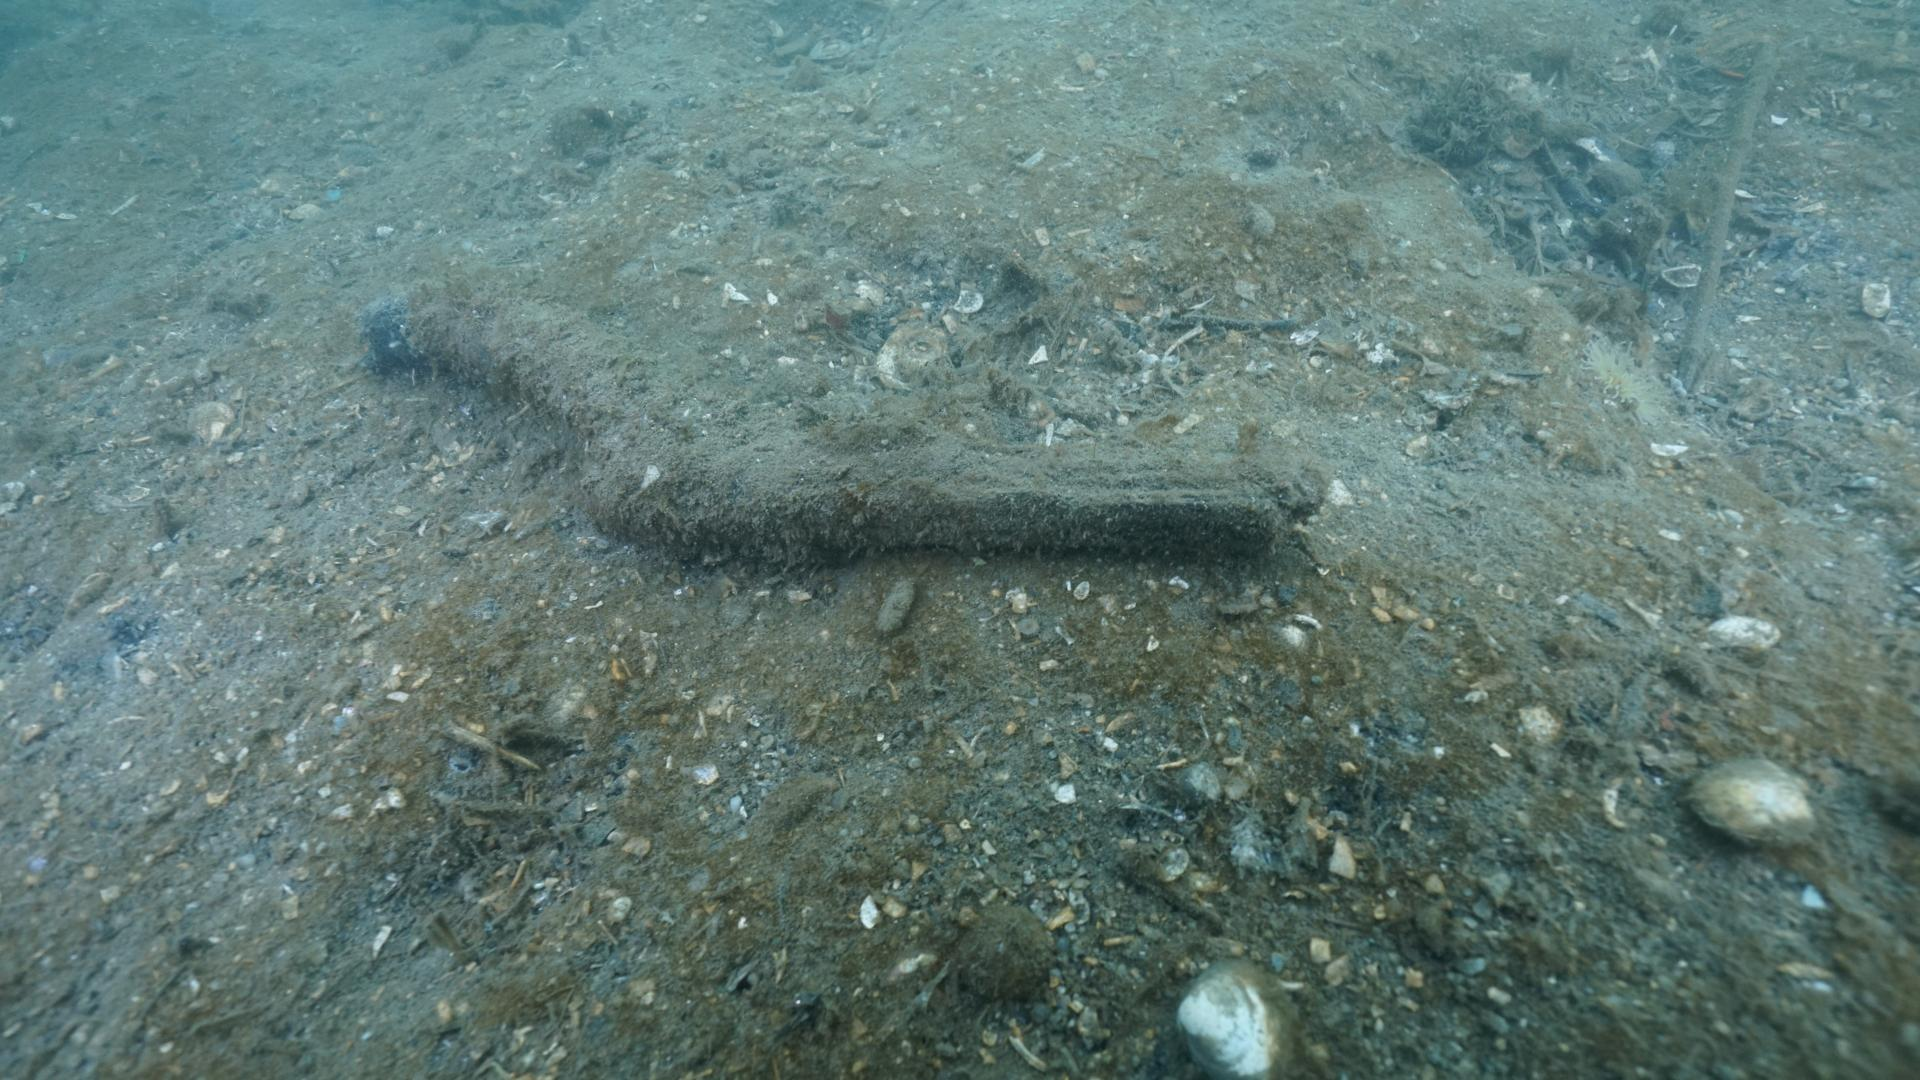wood: (357, 290, 1333, 562)
